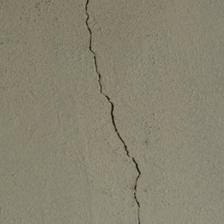Crack: (27, 19, 104, 130), (0, 0, 123, 50)
